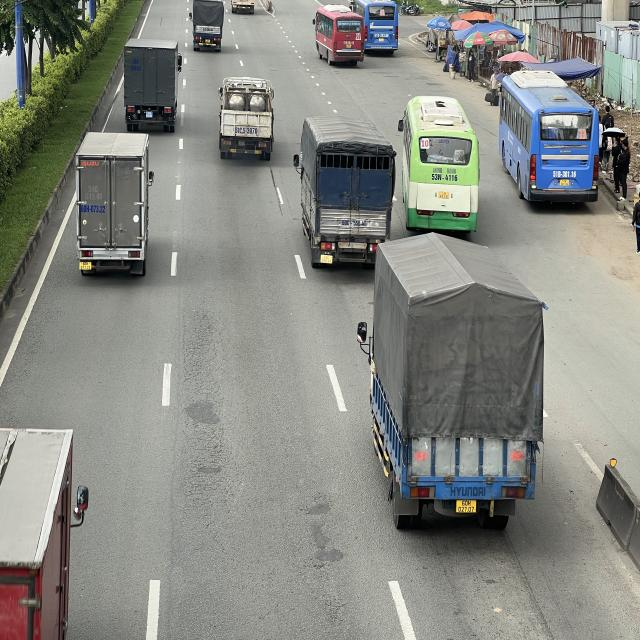coach: (496, 65, 602, 204), (399, 95, 482, 236), (313, 3, 366, 65), (352, 0, 401, 55)
truck: (362, 227, 546, 536), (295, 122, 395, 270), (75, 134, 155, 278), (123, 44, 182, 134), (219, 77, 277, 164), (190, 0, 225, 51)
